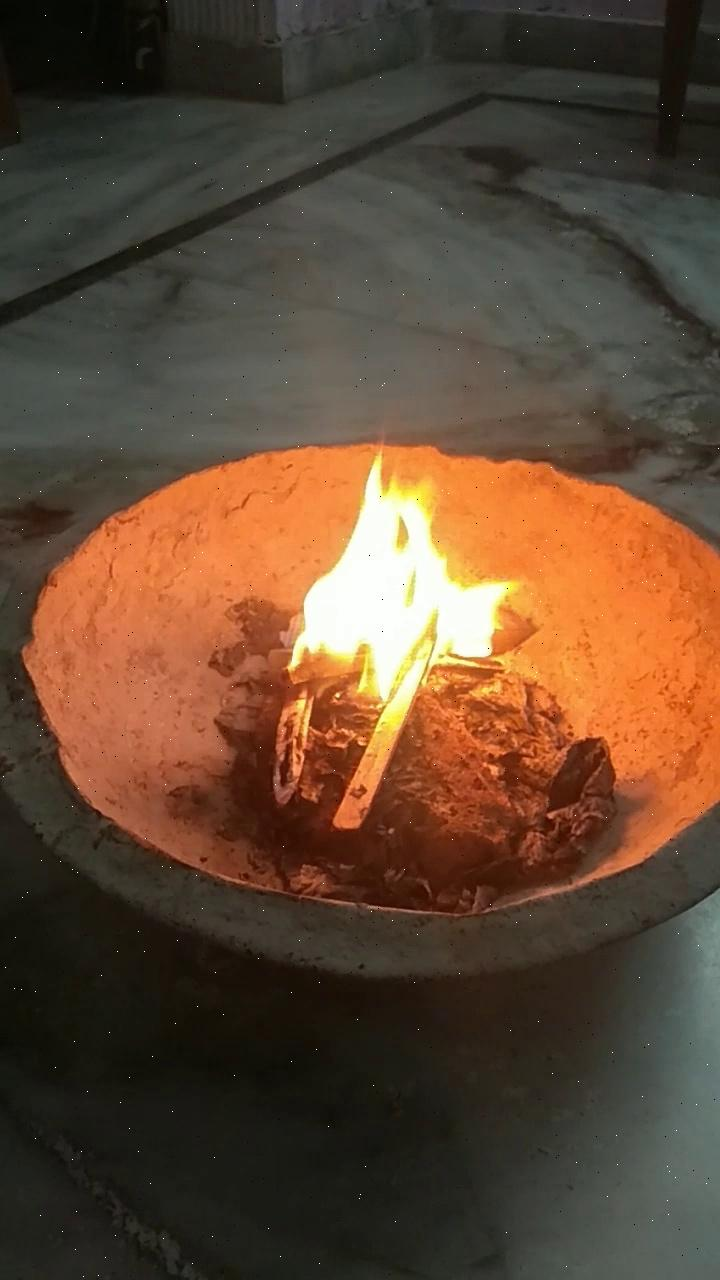fire: (271, 431, 518, 714)
